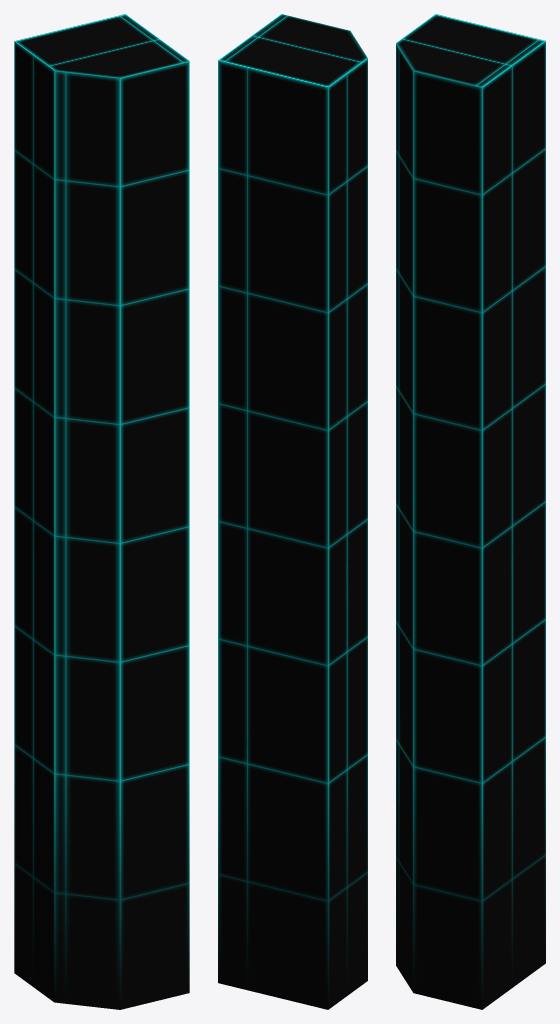
File: cornerBuilding.FBX
3 renders of one model, left to right at view 1: azimuth 30°, elevation 25°; view 2: azimuth 150°, elevation 25°; view 3: azimuth 330°, elevation 25°, orthographic.
Visible parts, largest first — view 1: Box001; view 2: Box001; view 3: Box001.
Boxes of the visible parts, x1,y1,x2,y2 form: Box001: [14, 14, 189, 1009]; Box001: [218, 14, 367, 1009]; Box001: [396, 14, 545, 1009].
Size of the model in its own units: 39.37 by 315 by 39.37.
1 material, 1 textured.
